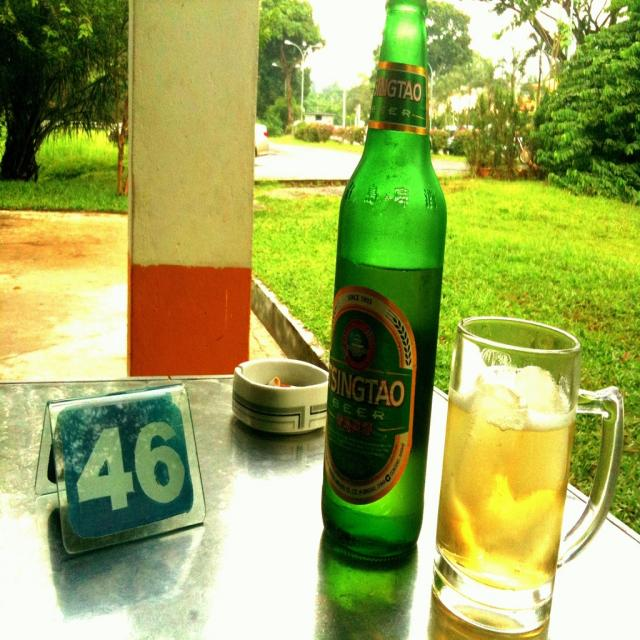tsingtao: (323, 285, 419, 509)
